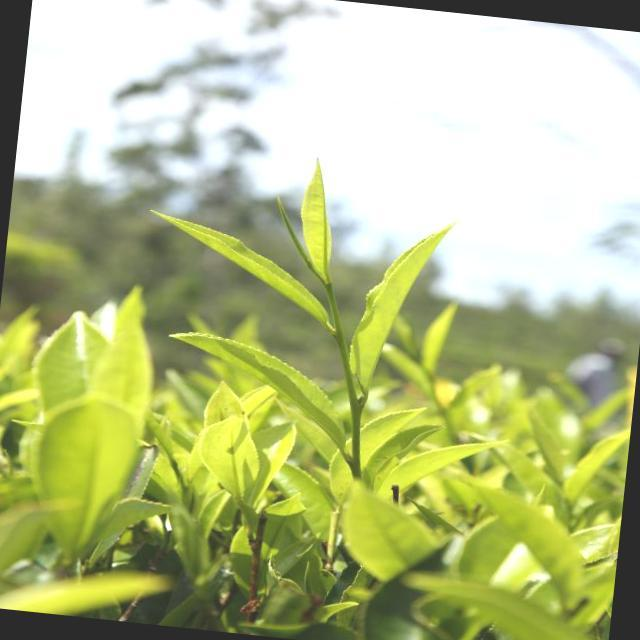Stem: (335, 326, 342, 336)
